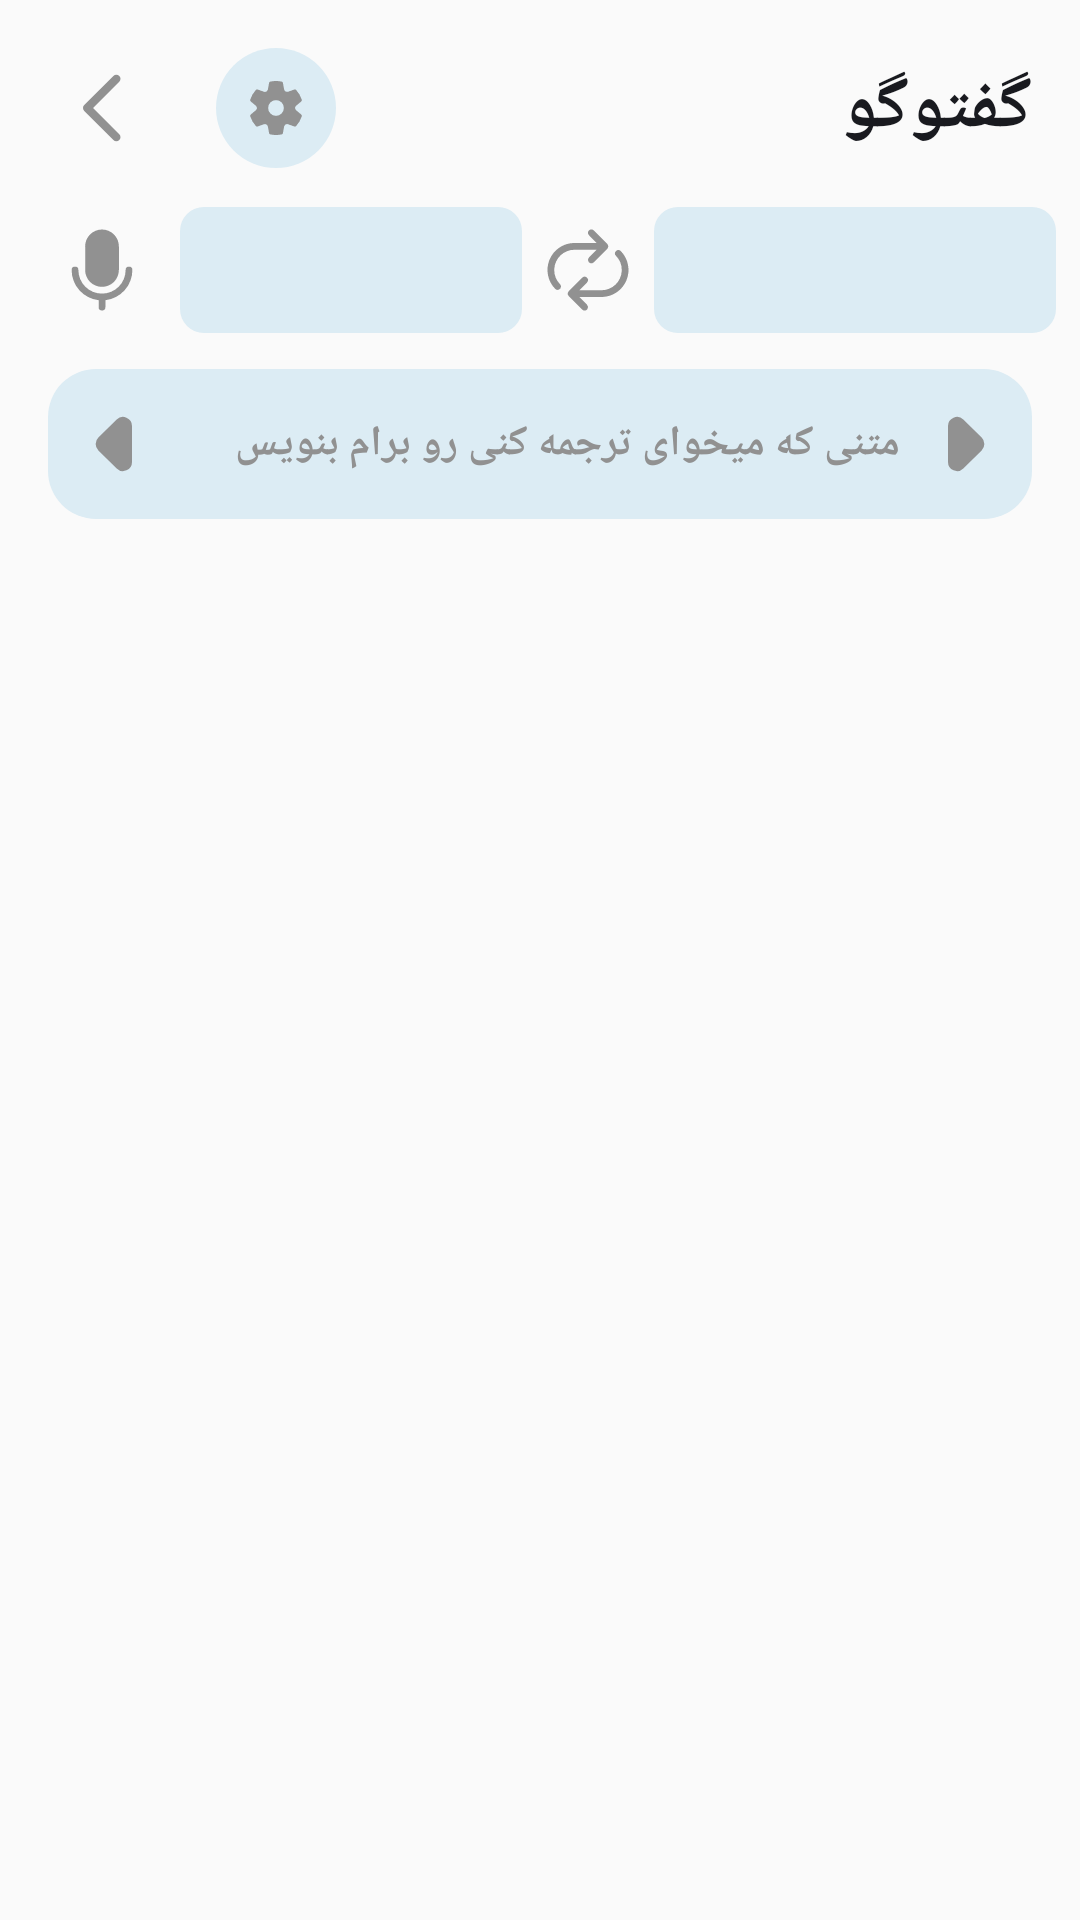

Screen size 1080w x 1920h. Icon name, then its center in pixels as (x=x, y=y):
back: (x=102, y=108)
caret left: (x=113, y=444)
caret right: (x=966, y=444)
mic nobg: (x=102, y=270)
reverse nobg: (x=588, y=270)
